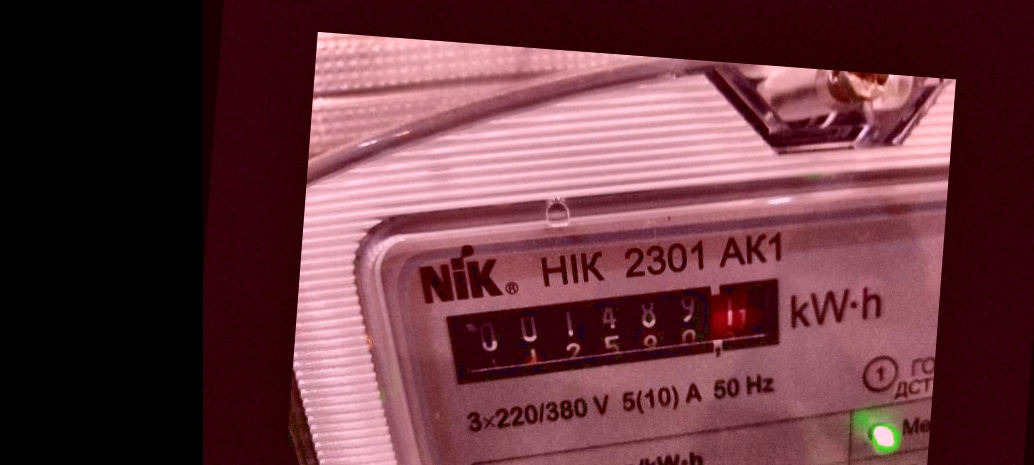0: (514, 307, 542, 345), (475, 318, 501, 355)
1: (718, 290, 740, 329), (558, 306, 581, 338)
4: (597, 299, 621, 331)
8: (637, 294, 661, 331)
9: (677, 291, 699, 324)
screen: (429, 243, 814, 421)
